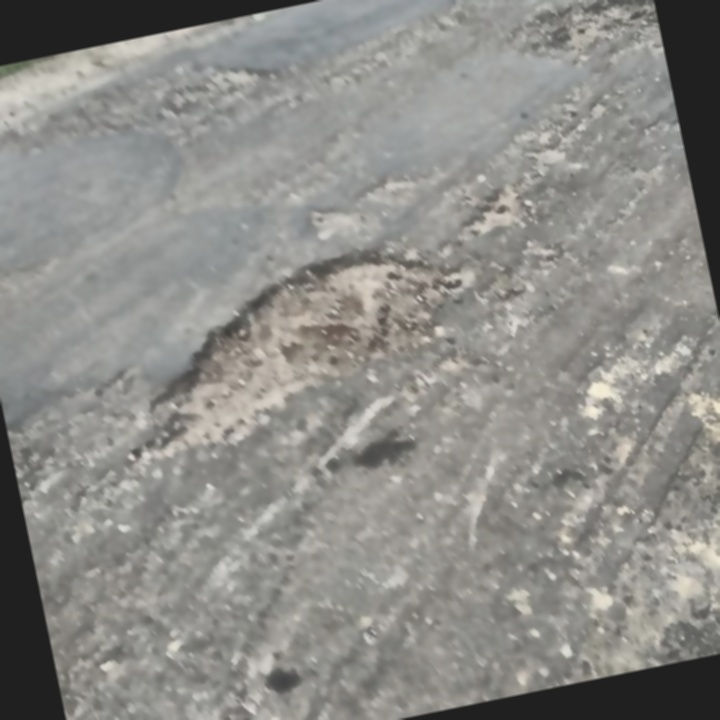pothole: (106, 225, 484, 466), (513, 0, 661, 66), (151, 55, 277, 117)
